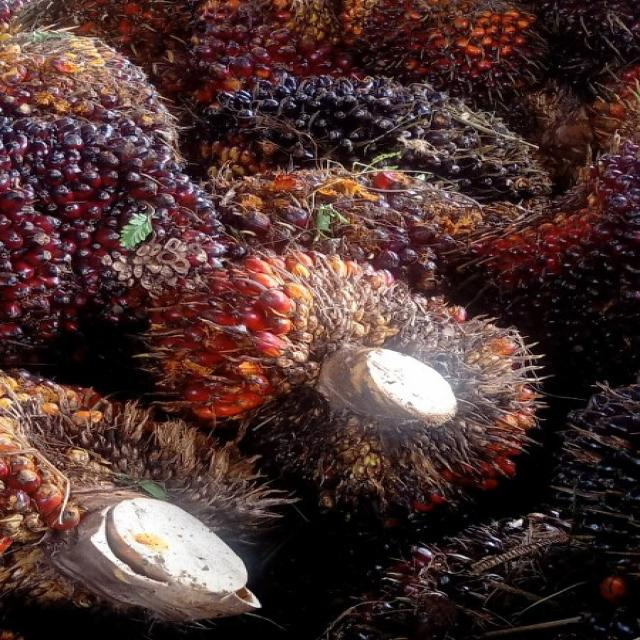fraksi 1: (112, 218, 577, 550)
